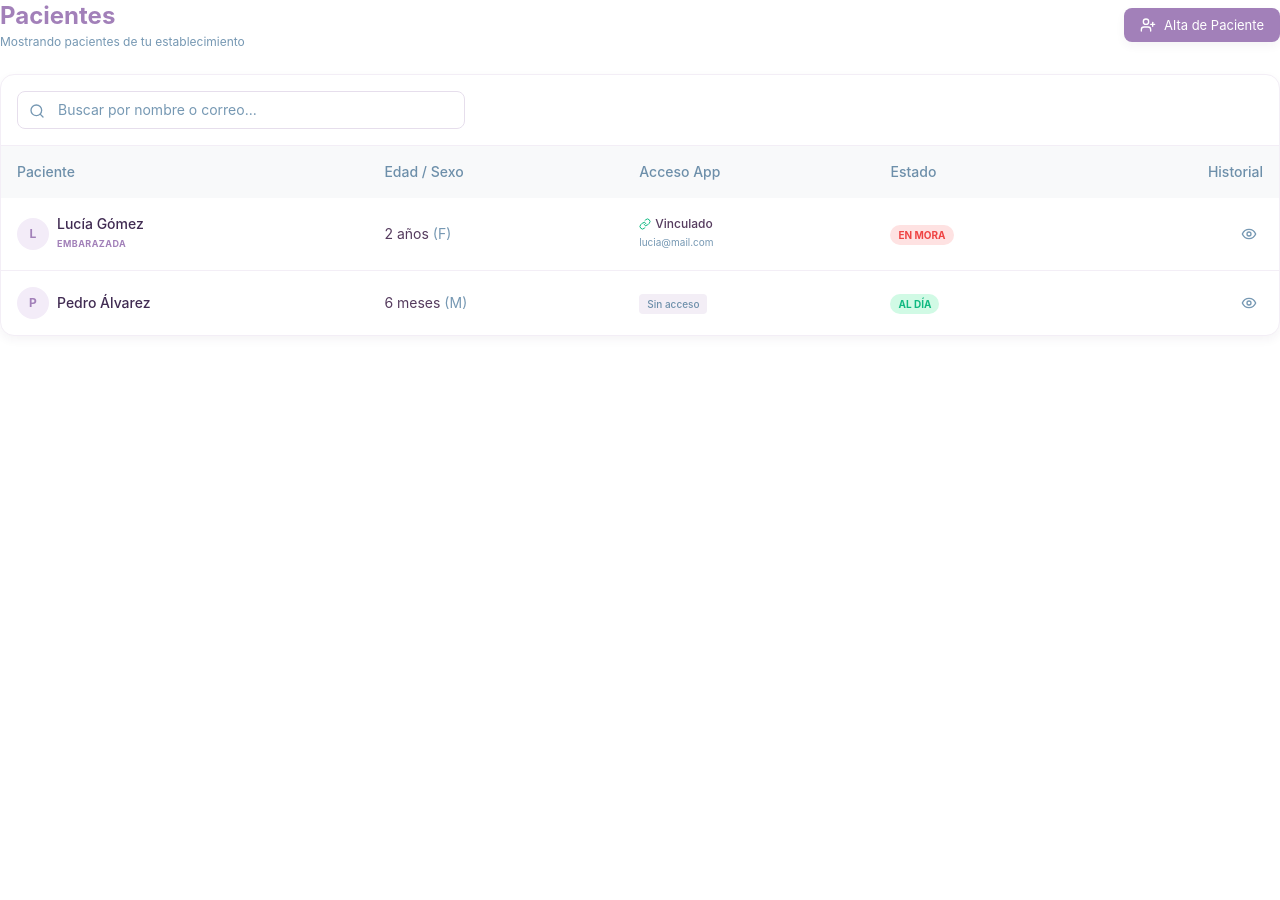
Test case: PatientsView – historial de vacunación › distingue dosis migradas de cartilla física
Click the button titled "Ver historial" in the row of "Lucía Gómez". click: point(1249, 234)
box: x1=1235 y1=220 x2=1263 y2=248
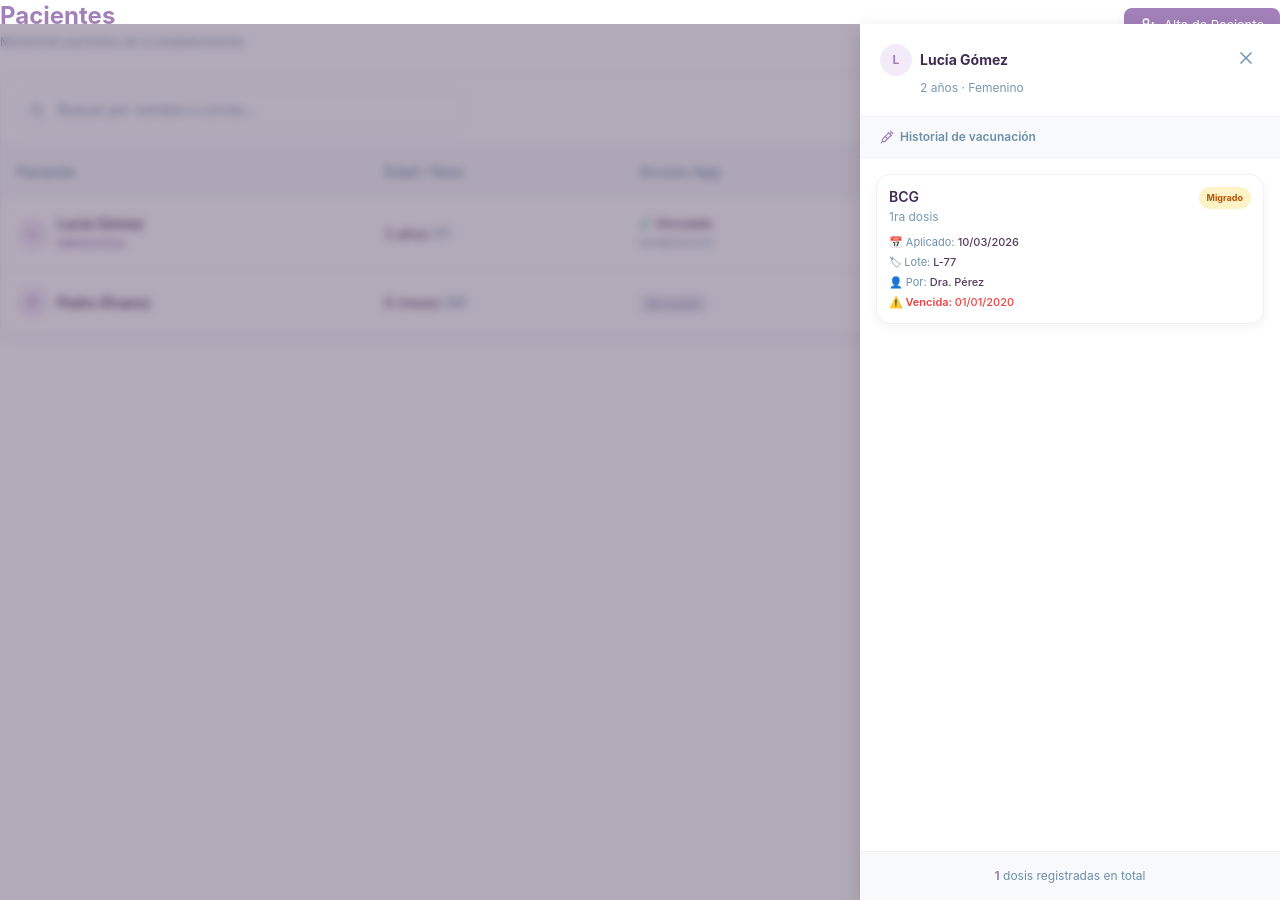
Check: the text "Migrado" is shown, box x1=1198 y1=187 x2=1251 y2=209
